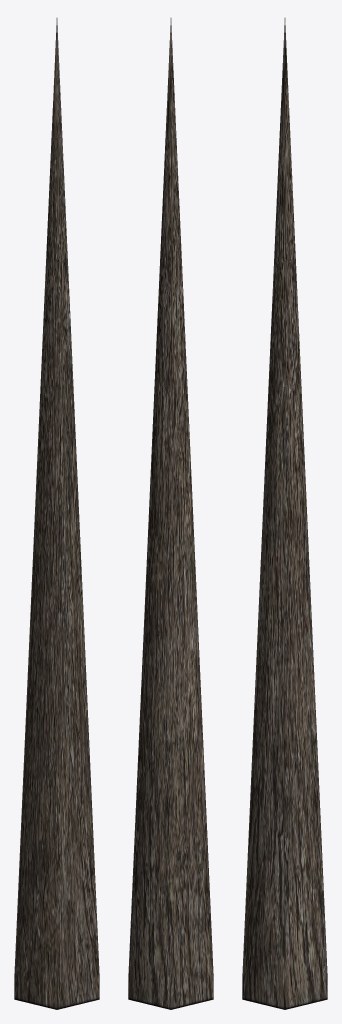
File: stamm2.dae
3 views of the same model, side by side, from view 1: azimuth 90°, elevation 25°; view 2: azimuth 210°, elevation 25°; view 3: azimuth 270°, elevation 25° (orthographic).
Parts seen in each view (by area): view 1: stamm; view 2: stamm; view 3: stamm.
Boxes of the visible parts, x1,y1,x2,y2 form: stamm: [14, 18, 99, 1009]; stamm: [128, 18, 213, 1009]; stamm: [242, 18, 327, 1009].
Bounding box in the file's own units: 0.5845 × 0.5062 × 6.37.
1 material, 1 textured.
